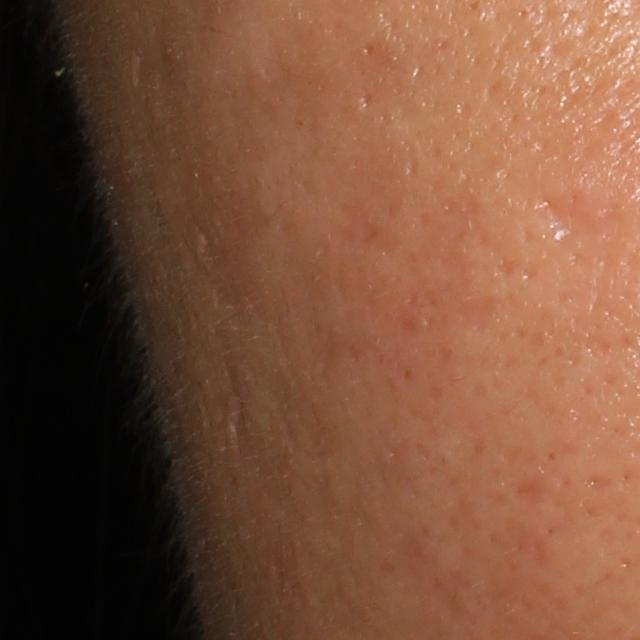atrophic_scar: (537, 185, 618, 244), (444, 290, 500, 335), (222, 371, 249, 457), (515, 473, 549, 507), (358, 87, 375, 109)
